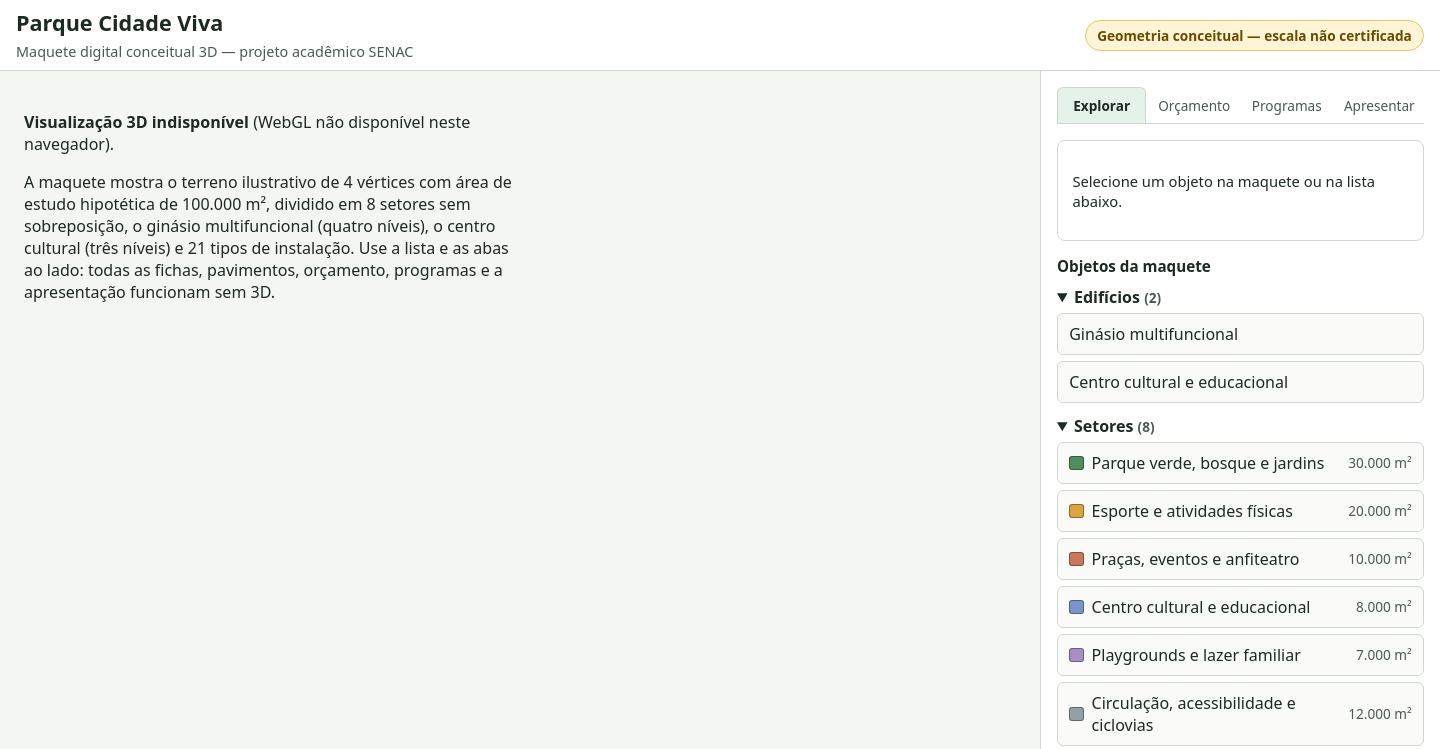
it: seleção sem WebGL (lista acessível) › Escape fecha a ficha
Click the button "Ginásio multifuncional" at (1240, 334), box top-left (1057, 313), bottom-right (1424, 354)
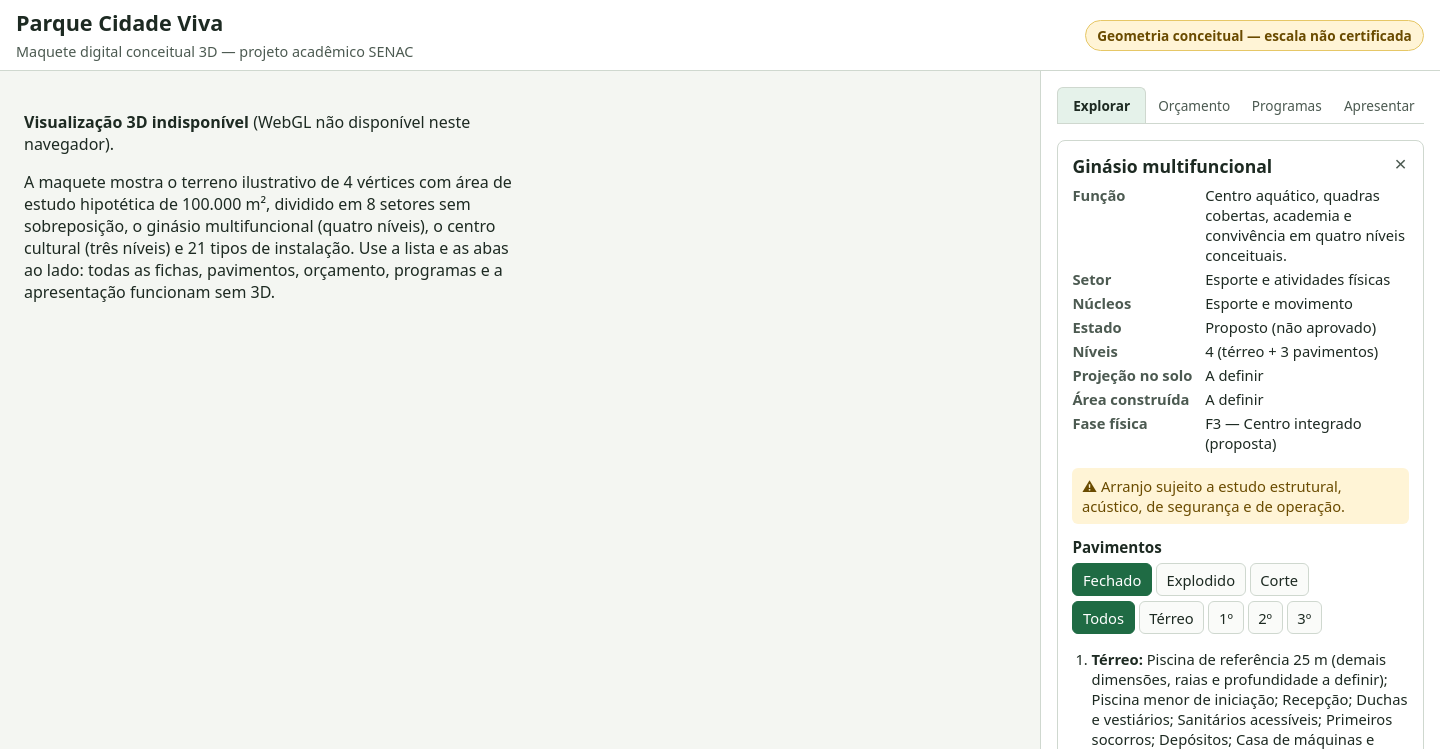
Press Escape
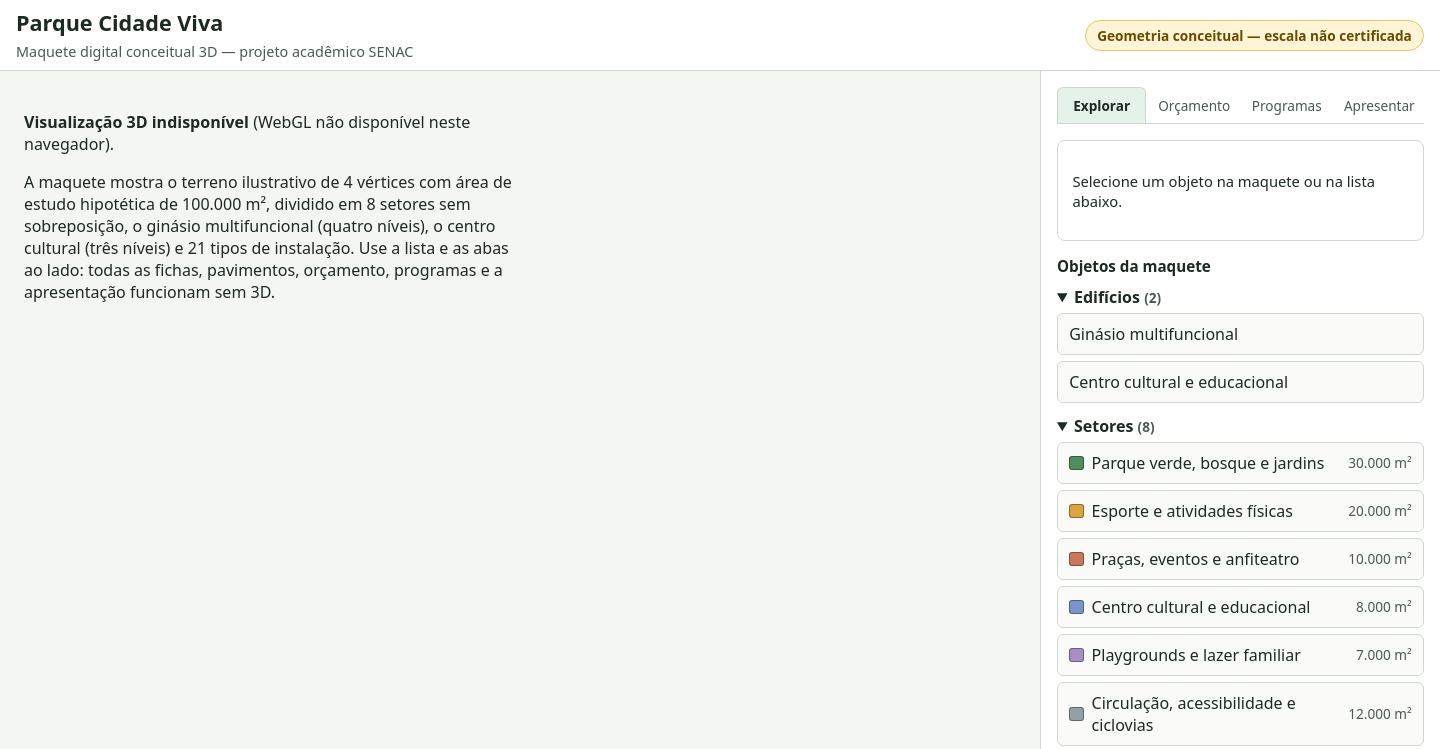
Expected: the text "Selecione um objeto na maquete ou na lista abaixo." is shown, top-left (1072, 171), bottom-right (1409, 211)
